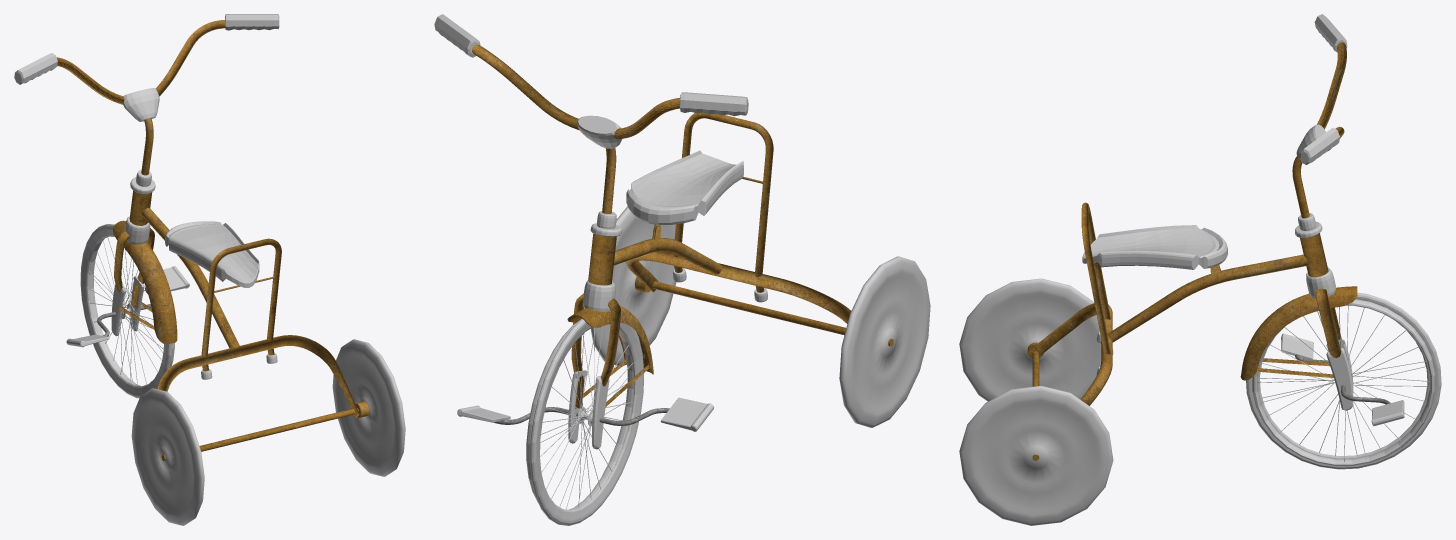
File: velosiped.FBX
The picture shows the model from 3 angles, left to right: view 1: azimuth 30°, elevation 25°; view 2: azimuth 150°, elevation 25°; view 3: azimuth 270°, elevation 25°; orthographic projection. The views are drawn at different scales.
Parts seen in each view (by area): view 1: wheel (×3), base, det; view 2: wheel (×3), base, det (×2); view 3: wheel (×3), base, det.
Part boxes in pixels (x1=…): wheel (×3): x1=80, y1=224, x2=405, y2=525; base: x1=56, y1=20, x2=369, y2=460; det: x1=14, y1=14, x2=279, y2=379; wheel (×3): x1=526, y1=206, x2=930, y2=525; base: x1=472, y1=44, x2=893, y2=408; det (×2): x1=434, y1=14, x2=767, y2=449; wheel (×3): x1=959, y1=278, x2=1441, y2=525; base: x1=1027, y1=42, x2=1357, y2=460; det: x1=1082, y1=14, x2=1404, y2=426.
Bounding box in the file's own units: 18.88 × 25.29 × 28.04.
